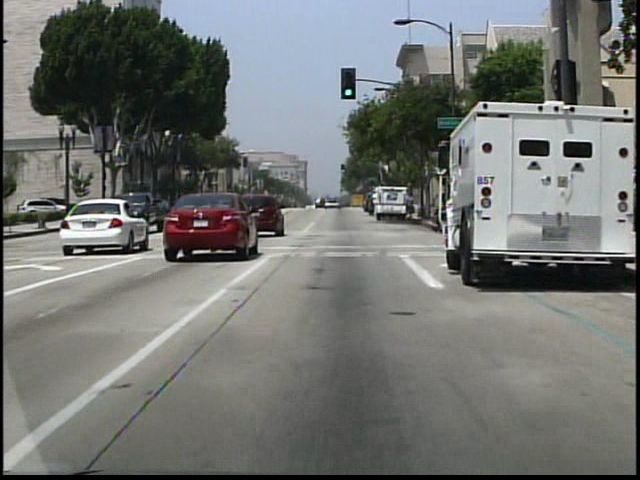person: (408, 189, 416, 221)
